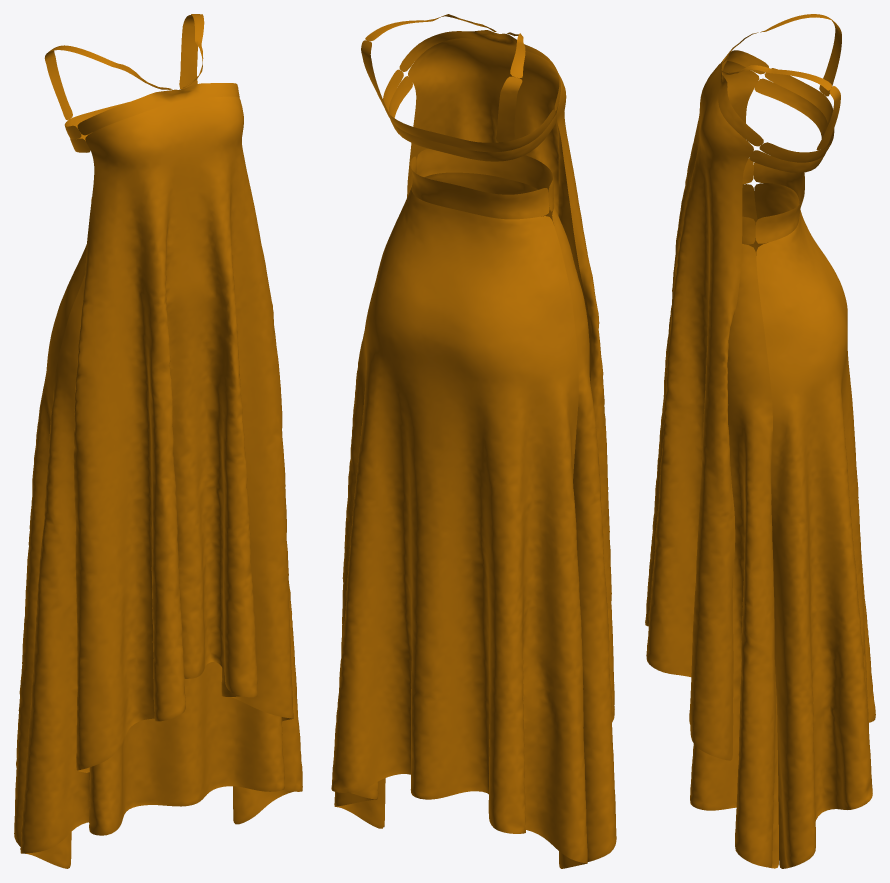
File: evening_dress.glb
3 views of the same model, side by side, from view 1: azimuth 30°, elevation 25°; view 2: azimuth 150°, elevation 25°; view 3: azimuth 270°, elevation 25° (orthographic). The views are drawn at different scales.
Parts seen in each view (by area): view 1: evening_dress; view 2: evening_dress; view 3: evening_dress.
Boxes of the visible parts, x1,y1,x2,y2 form: evening_dress: [14, 14, 302, 868]; evening_dress: [331, 14, 616, 868]; evening_dress: [645, 14, 875, 868].
Bounding box in the file's own units: 0.6444 × 1.81 × 0.4855.
